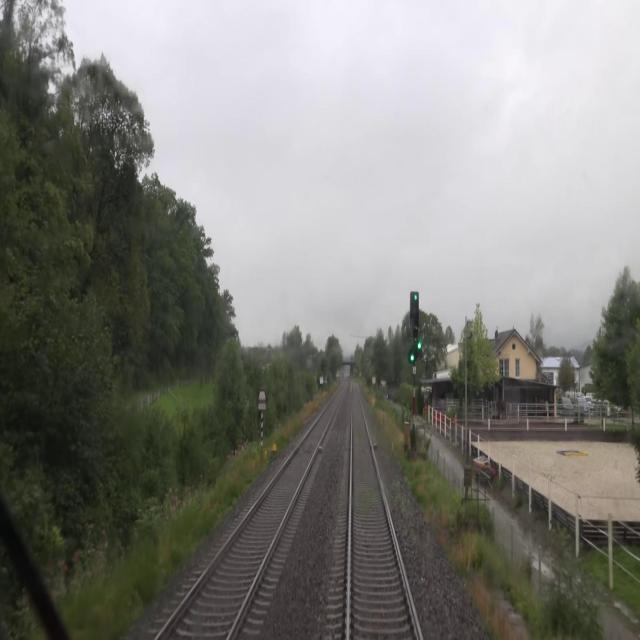rail-track: (161, 391, 341, 639), (351, 388, 418, 639)
